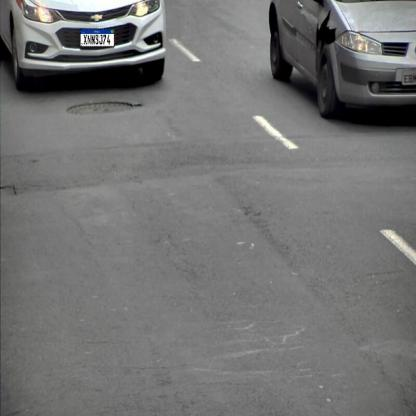PlacaM: (80, 29, 114, 47)
